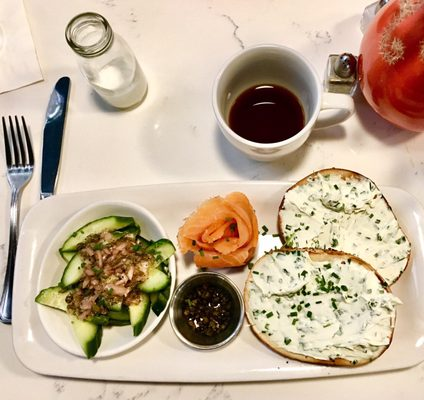pizza: (211, 44, 325, 164)
sandwich: (41, 76, 71, 200)
sushi: (28, 198, 177, 362), (211, 45, 324, 163), (169, 269, 244, 352)
